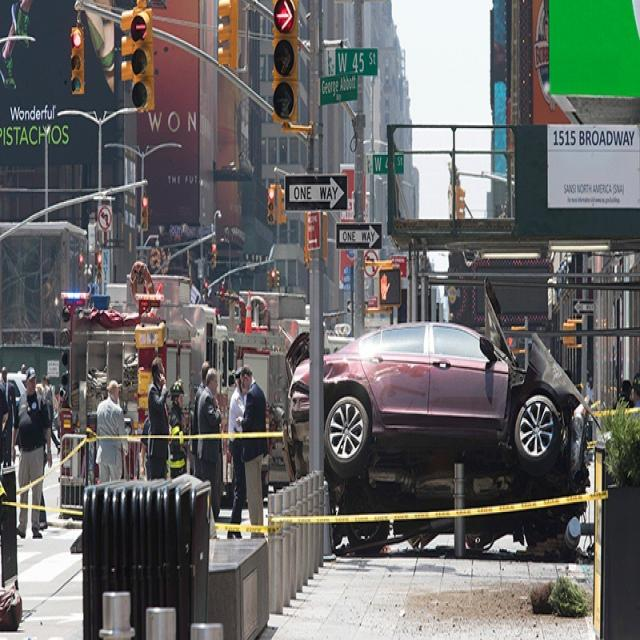body: (10, 364, 53, 542), (235, 362, 269, 540), (196, 366, 224, 524), (146, 354, 170, 532), (226, 366, 248, 540), (94, 378, 130, 484), (190, 361, 212, 481), (165, 377, 188, 479), (0, 366, 18, 470), (44, 376, 61, 455), (138, 414, 154, 479), (41, 377, 54, 448), (612, 378, 634, 408), (0, 386, 8, 442), (584, 367, 594, 405), (629, 384, 636, 408), (34, 384, 42, 400), (633, 372, 640, 386), (20, 363, 26, 374)
